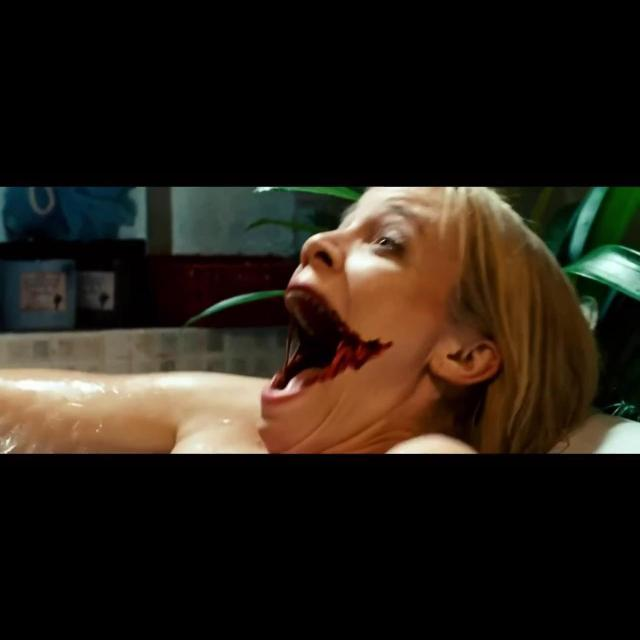blood: (272, 289, 392, 389)
